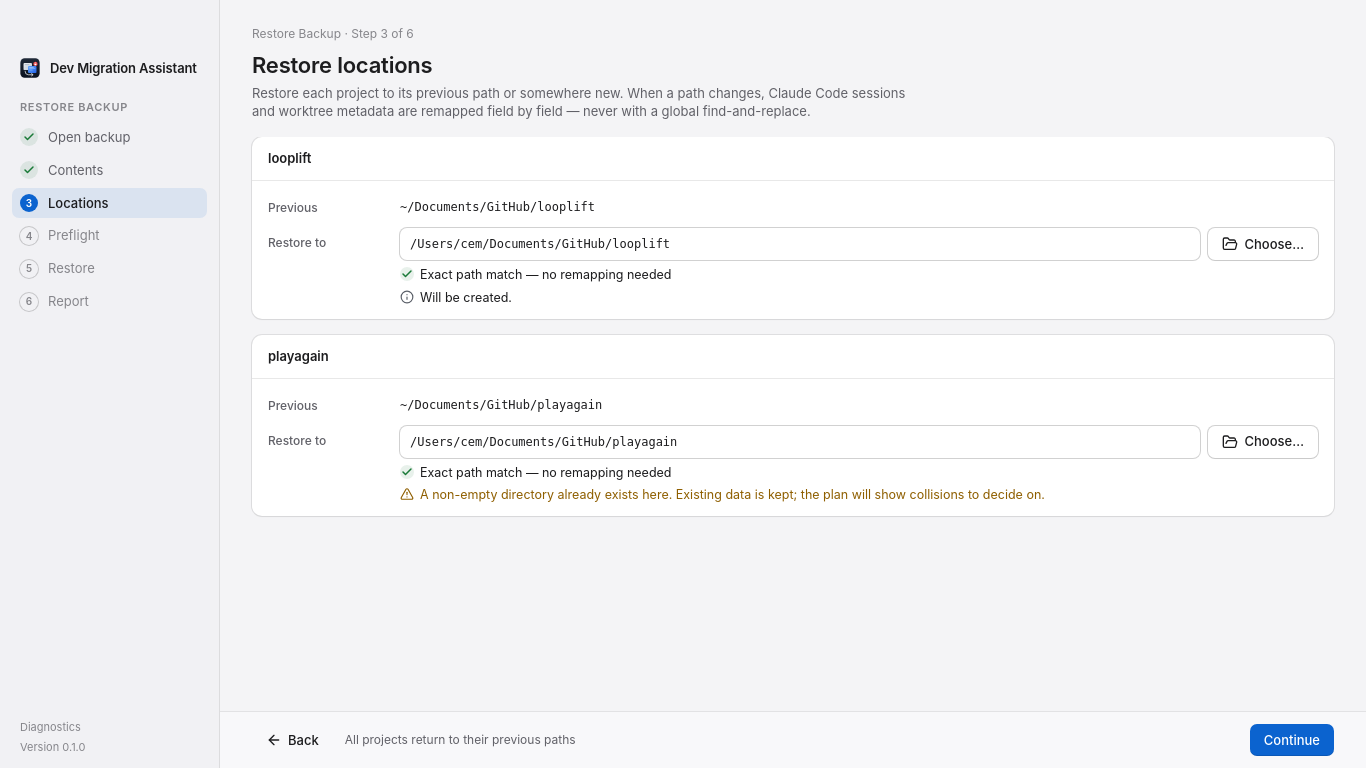
Scenario: Restore — mapping › shows an exact match by default and a remap message when the path changes
This screenshot has width=1366, height=768.
expect the element with test id "mapping-exact-0" shows "Exact path match": met, box [420,267,672,282]
expect the element with test id "mapping-exact-1" shows "Exact path match": met, box [420,465,672,480]
Replace the text in the field with test id "mapping-input-0" with "/Users/newuser/Projects/looplift" at (800, 244), box [400,228,1200,260]
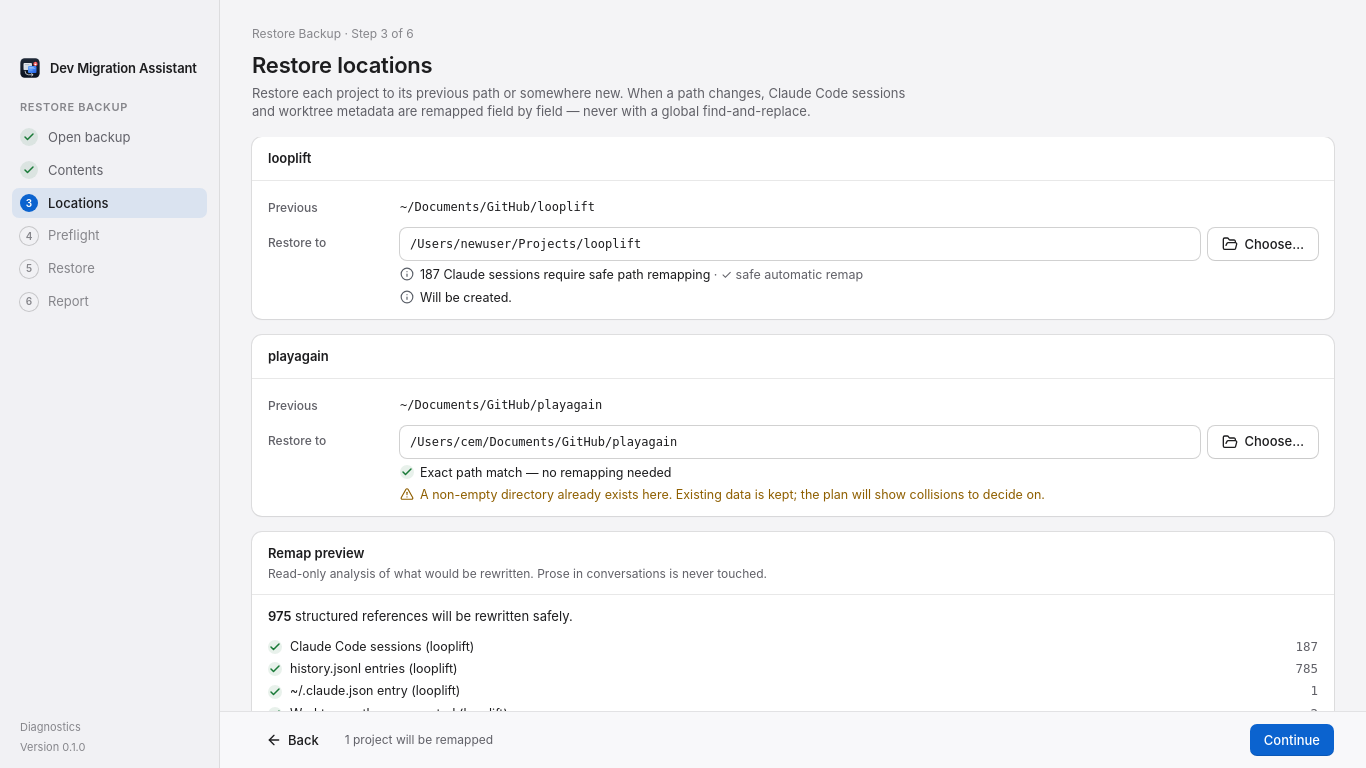
expect the element with test id "mapping-remap-0" shows "187 Claude sessions require safe path remapping": met, box [400,267,863,282]
expect the element with test id "mapping-remap-report" shows "structured references will be rewritten safely": met, box [295,608,573,624]
expect the element with test id "mapping-remap-0" shows "safe automatic remap": met, box [710,267,863,282]
